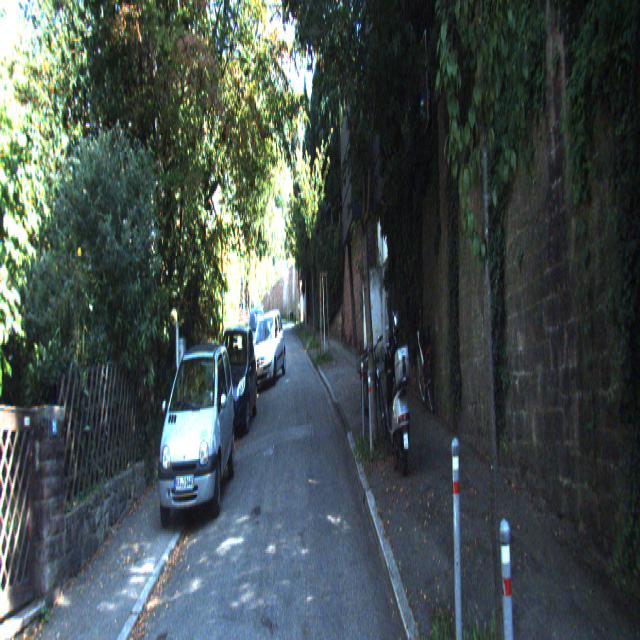Car: (157, 336, 238, 534), (211, 322, 259, 440), (384, 317, 414, 487), (248, 307, 286, 389)
